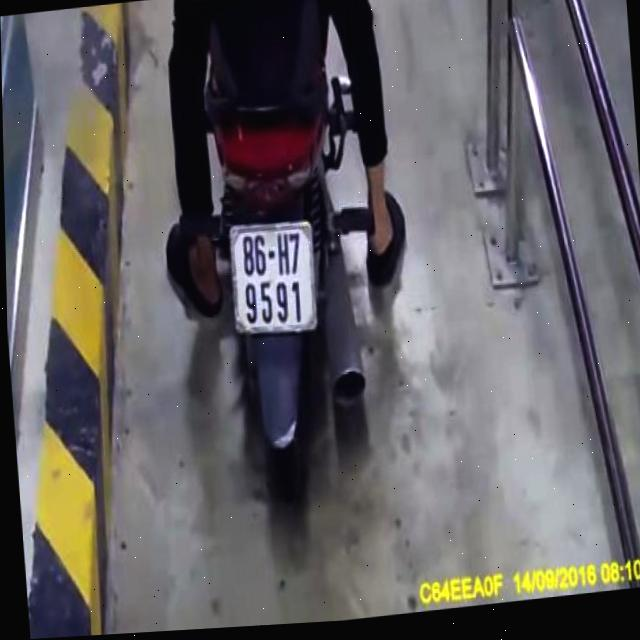motorcycle: (172, 0, 417, 519)
plate: (220, 211, 324, 345)
